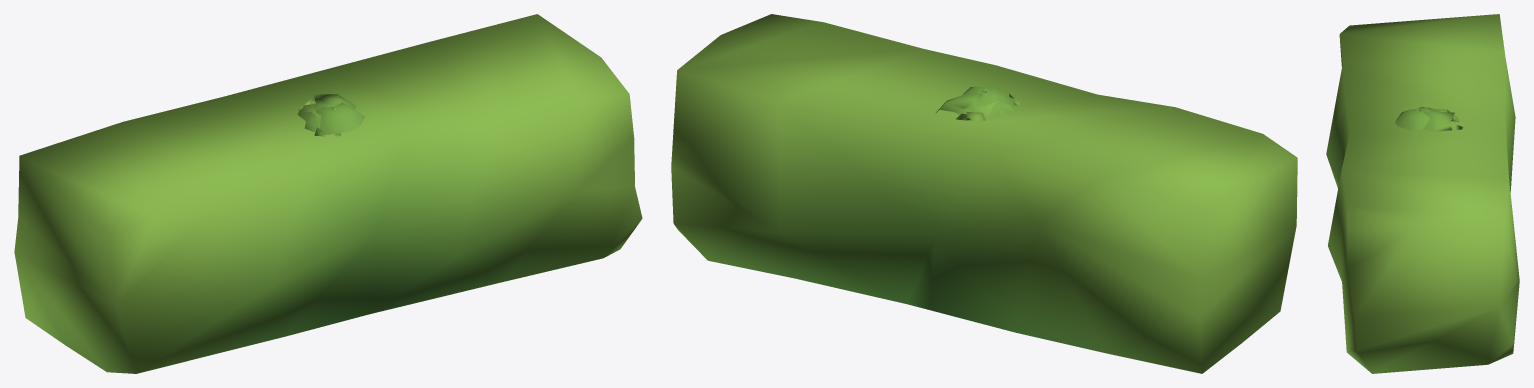
File: Ranch_Plants.glb
3 renders of one model, left to right at view 1: azimuth 30°, elevation 25°; view 2: azimuth 150°, elevation 25°; view 3: azimuth 270°, elevation 25°, orthographic. The views are drawn at different scales.
Parts seen in each view (by area): view 1: Hedge, Tree_B, Tree_A; view 2: Hedge, Tree_A; view 3: Hedge, Tree_A, Tree_B.
Boxes of the visible parts, bbox=[...] form: Hedge: bbox=[14, 14, 642, 373]; Tree_B: bbox=[316, 102, 364, 134]; Tree_A: bbox=[297, 92, 355, 132]; Hedge: bbox=[671, 14, 1297, 373]; Tree_A: bbox=[935, 93, 1014, 119]; Hedge: bbox=[1326, 14, 1519, 373]; Tree_A: bbox=[1418, 107, 1463, 131]; Tree_B: bbox=[1395, 107, 1431, 130].
Bounding box in the file's own units: 3 × 1.01 × 1.1.
